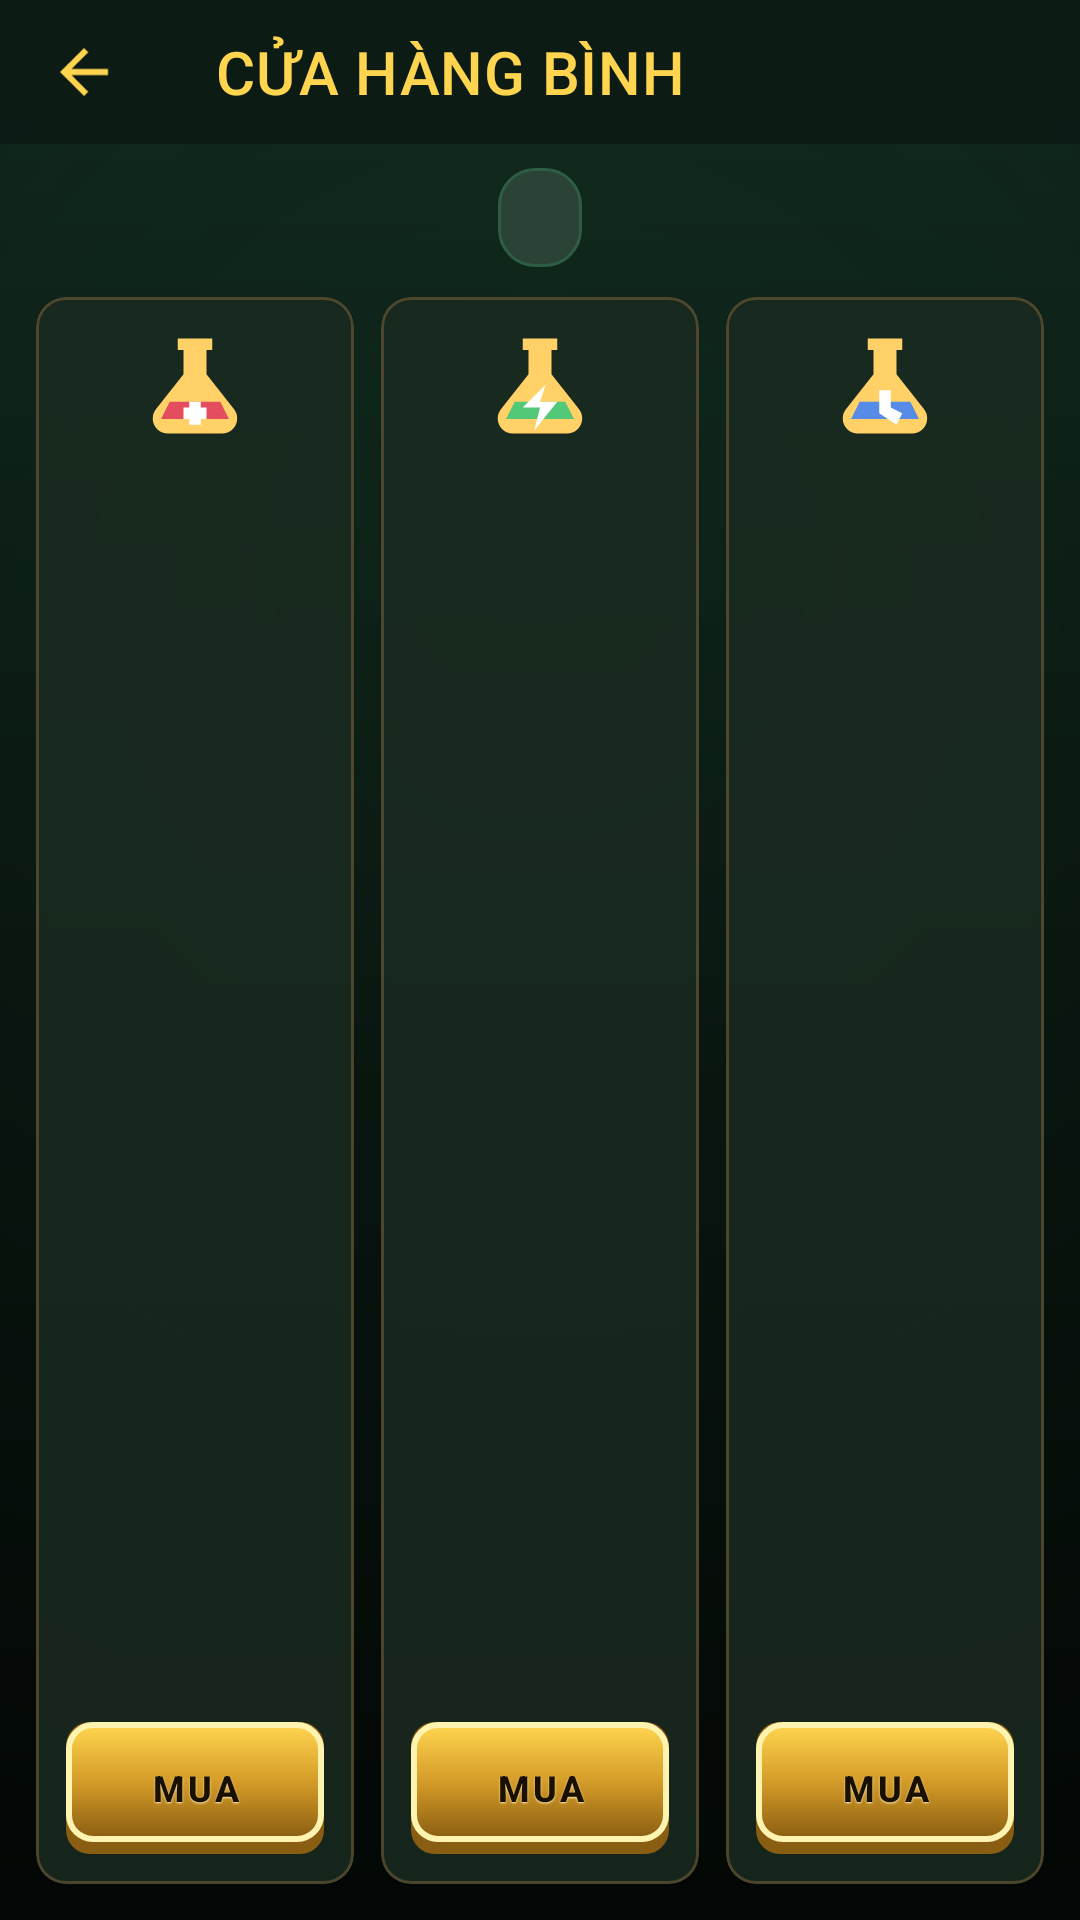

Where to tap for icons on this 1080w x 1920h app screen, as point (x, y):
Bình Giảm Hồi Chiêu: point (885, 386)
Bình Máu: point (195, 386)
Bình Tăng Tốc: point (540, 386)
